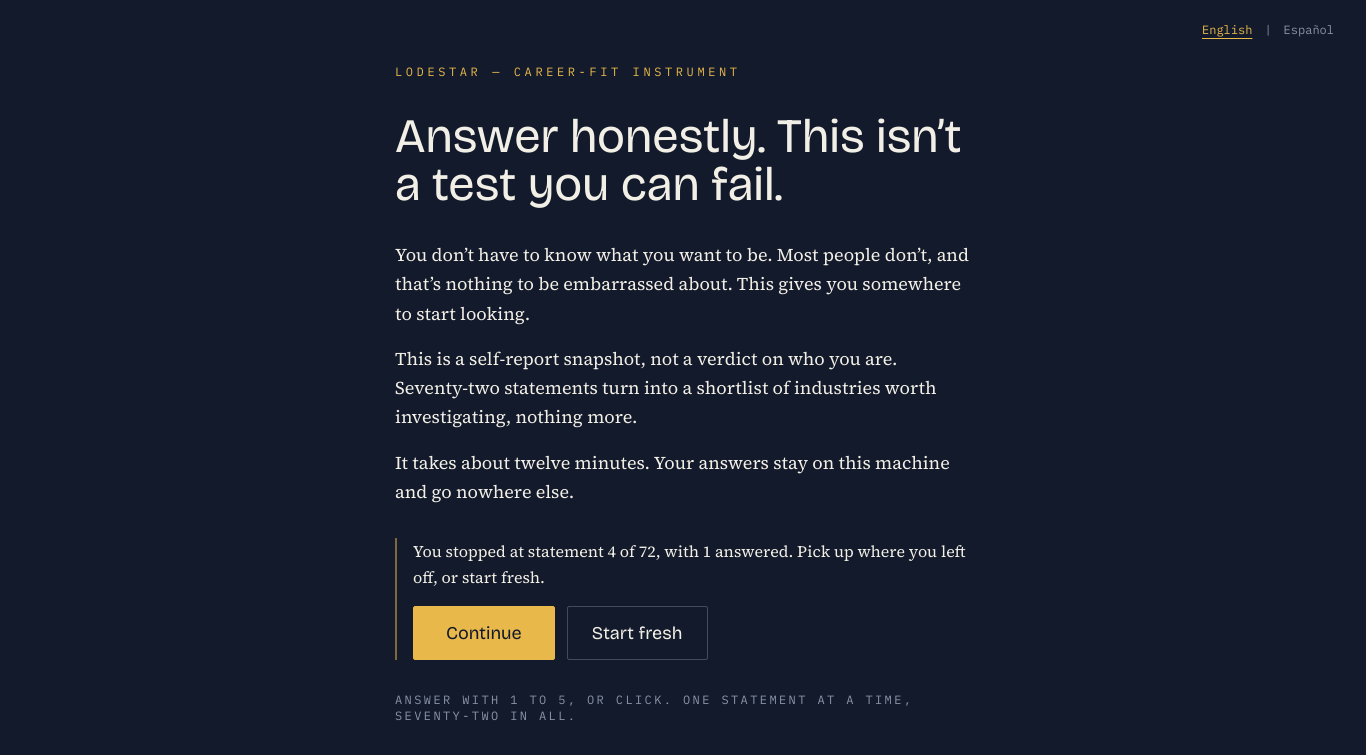
Test case: assessment flow › offers to start fresh from the resume cue and clears the saved answers
This screenshot has width=1366, height=755.
Click the button "Start fresh". click: click(637, 633)
box: [567,606,708,660]
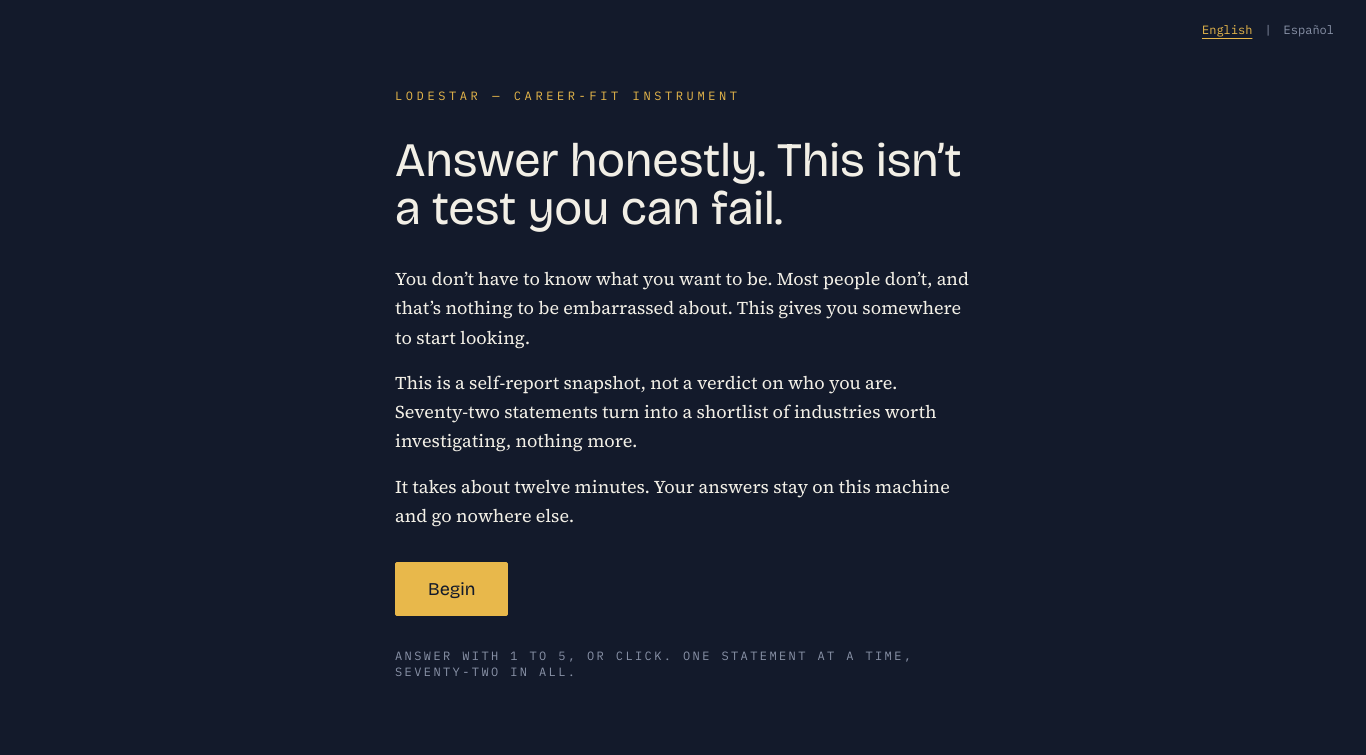
Expected: the button "Begin" is shown
Click the button "Begin". click: click(452, 589)
box: [395,562,508,616]
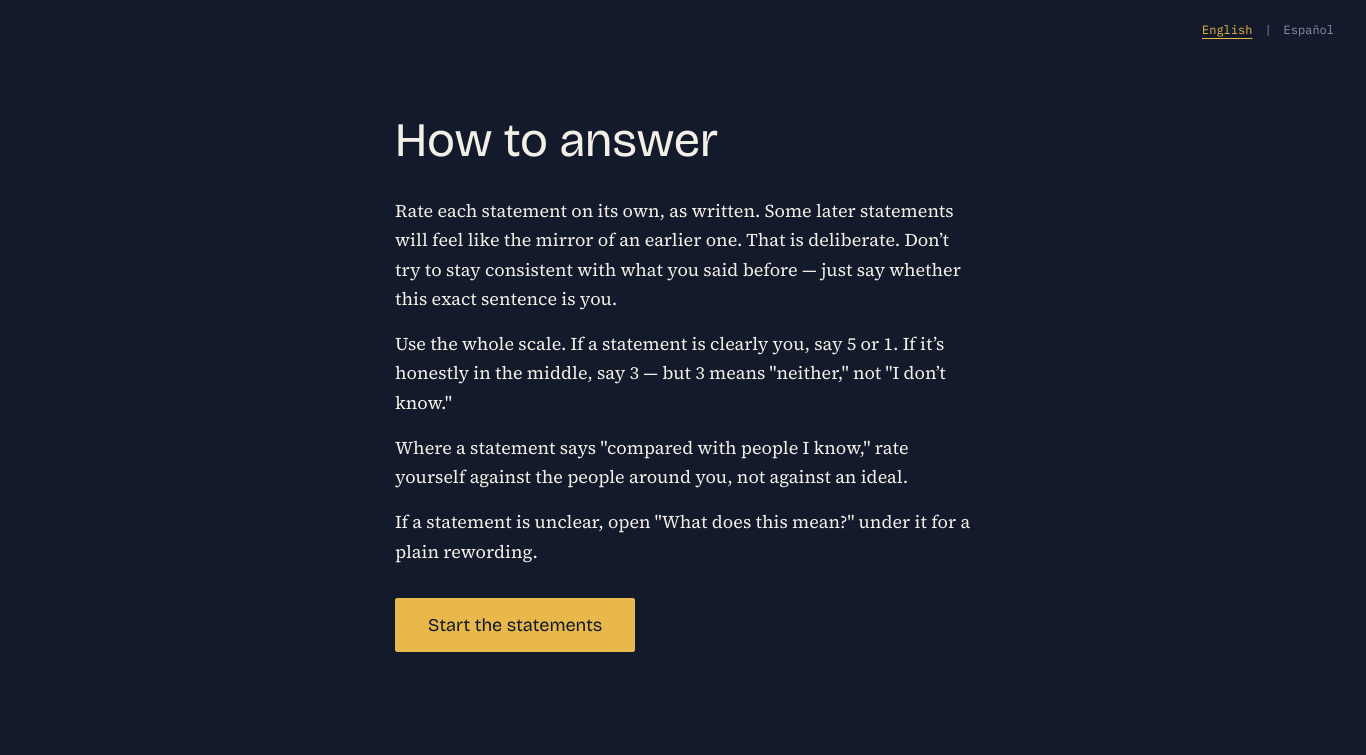
Click the button "Start the statements". click: click(515, 625)
box: [395,598,635,652]
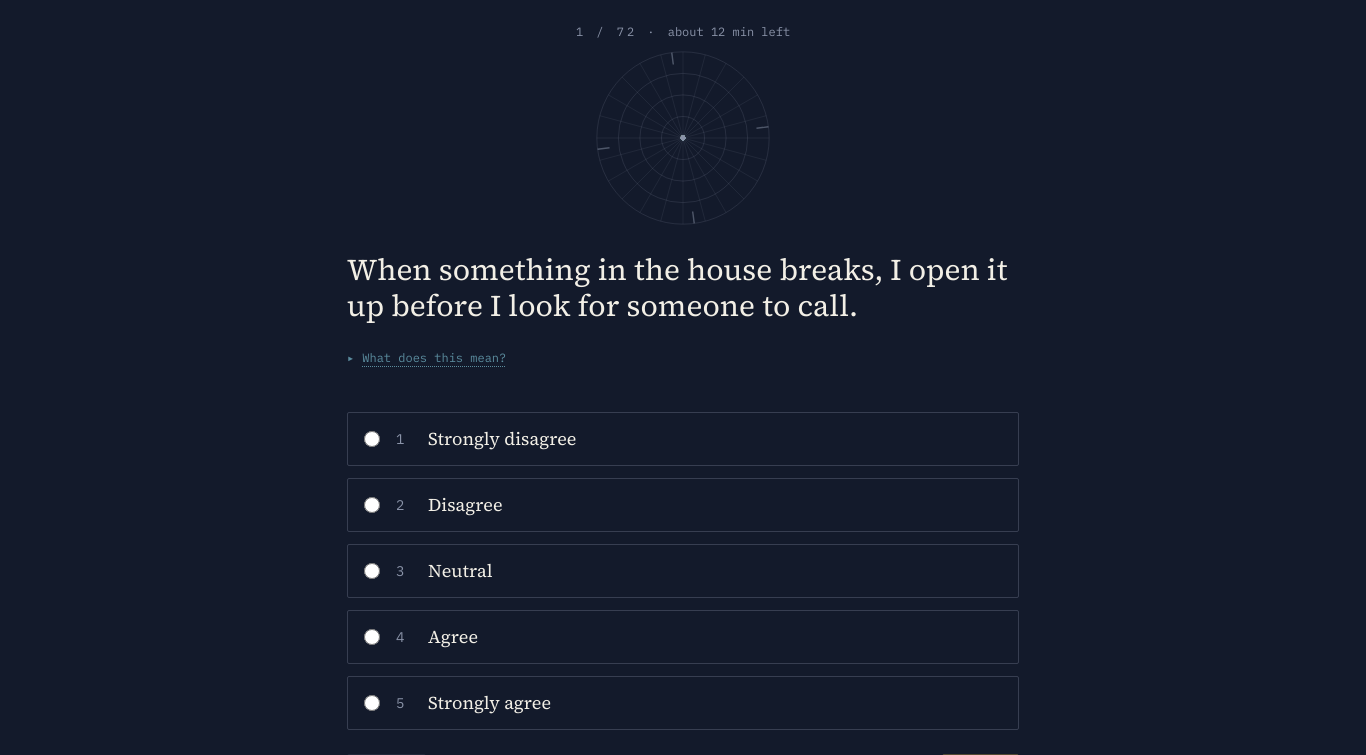
Expected: the text "When something in the house breaks, I open it up before I look for someone to call." is shown, [347,249,1008,326]
